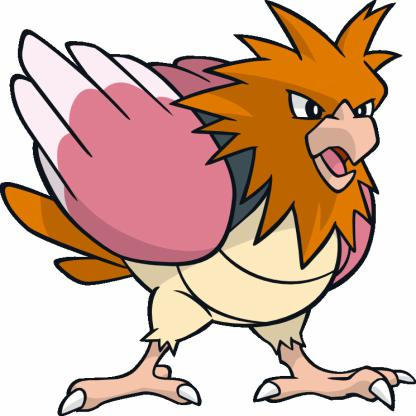Spearow: (1, 8, 416, 416)
